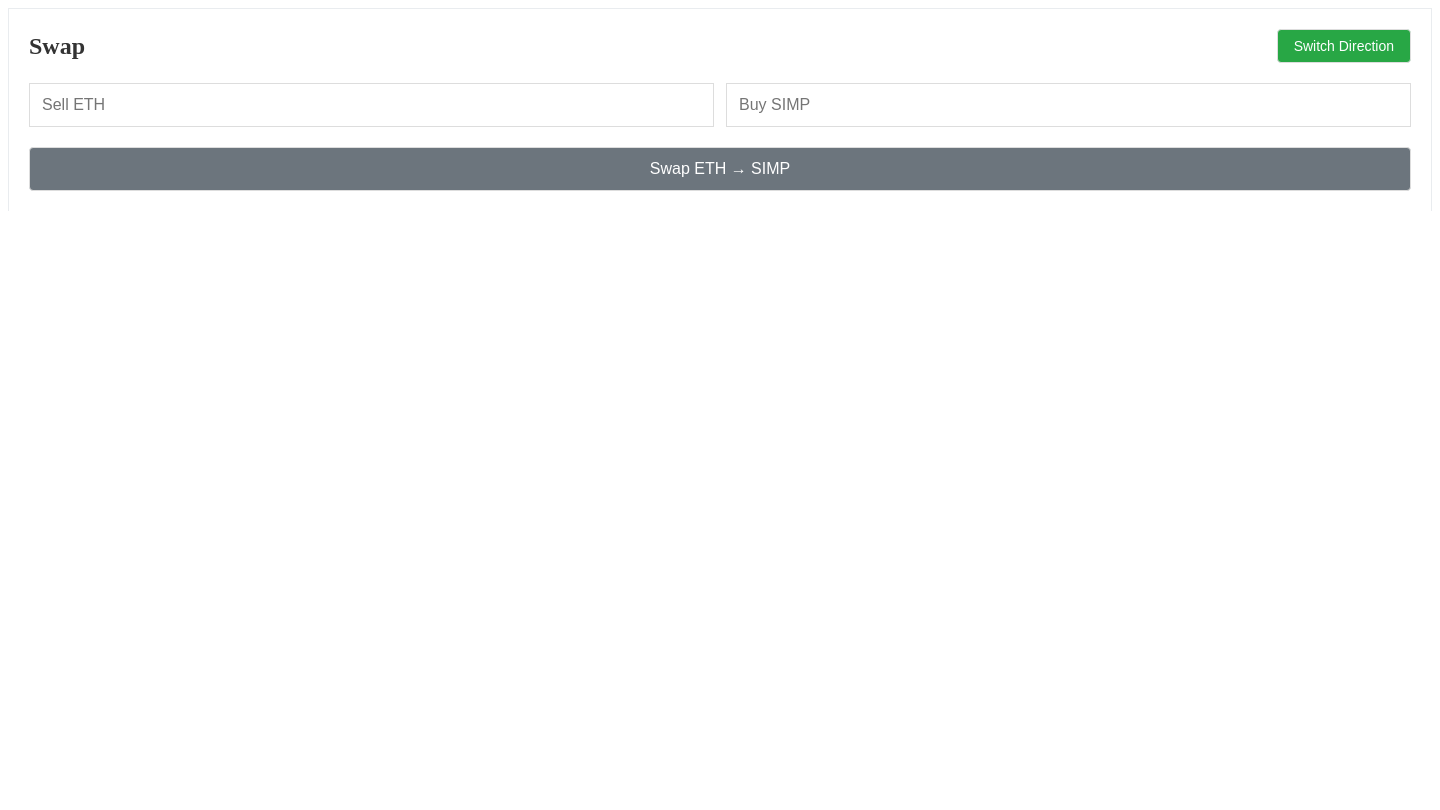
Test: Swap Component › Confirmation Dialog Integration › should not execute swap when confirmation is cancelled
The width and height of the screenshot is (1440, 810).
Click the button "Switch Direction". click: click(1344, 46)
box: x1=1277 y1=29 x2=1411 y2=63
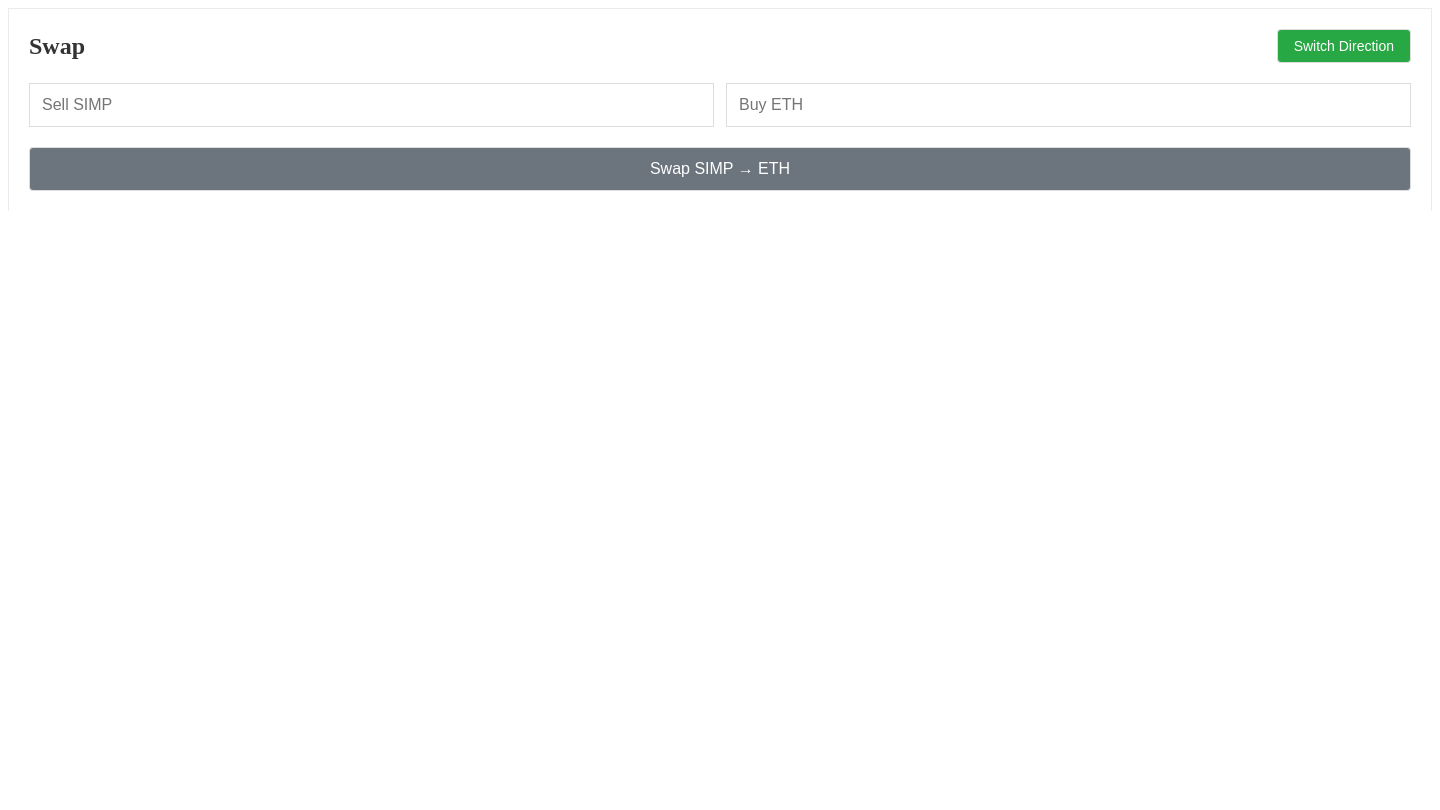
Type "1.0" into the number field with placeholder "Sell SIMP". click: (372, 105)
box: x1=29 y1=83 x2=714 y2=127
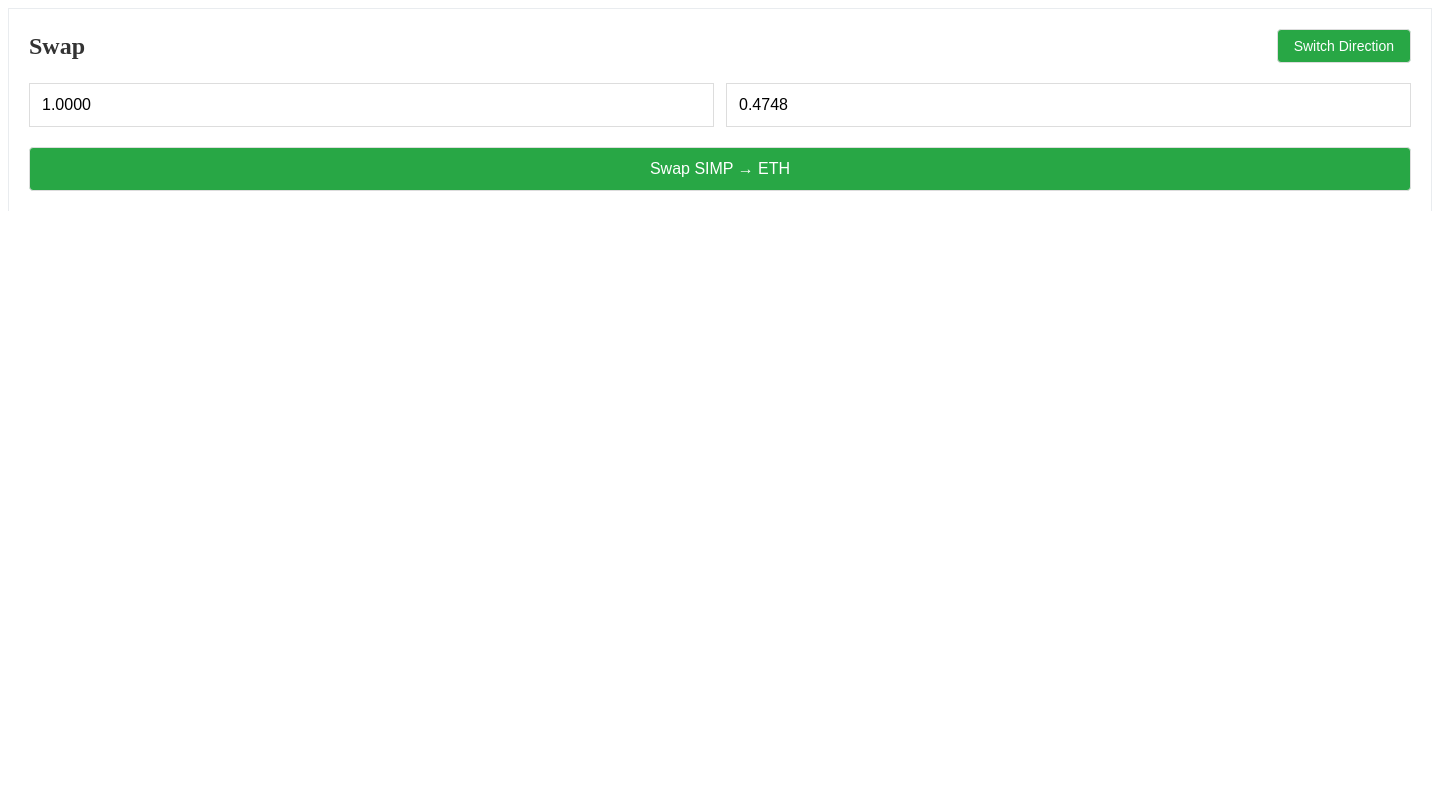
Click the button "Swap SIMP → ETH". click: click(720, 169)
box: x1=29 y1=147 x2=1411 y2=191
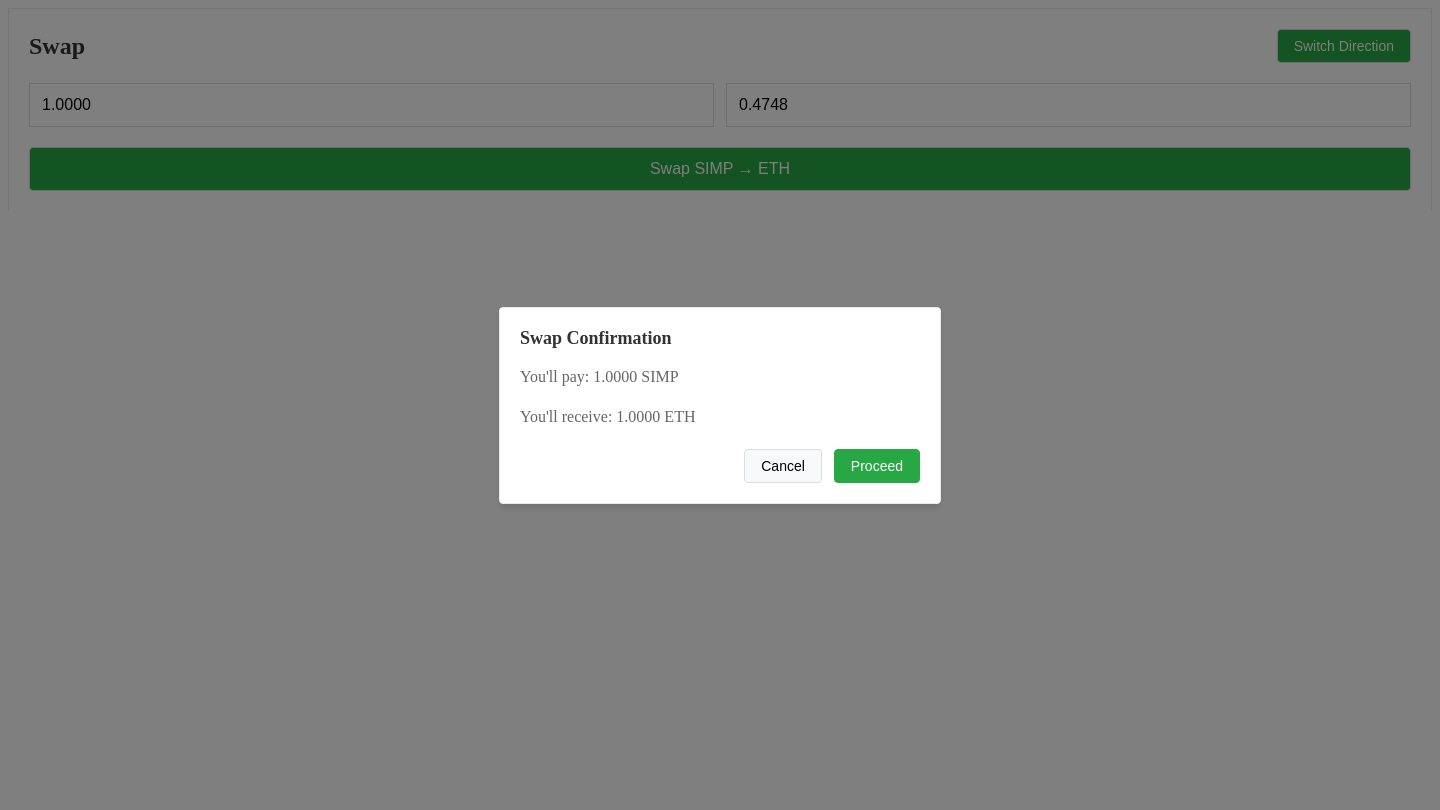
Now the heading "Swap Confirmation" is shown, box x1=520 y1=328 x2=672 y2=348
Click the button "Cancel". click: click(783, 466)
box: x1=744 y1=448 x2=822 y2=482
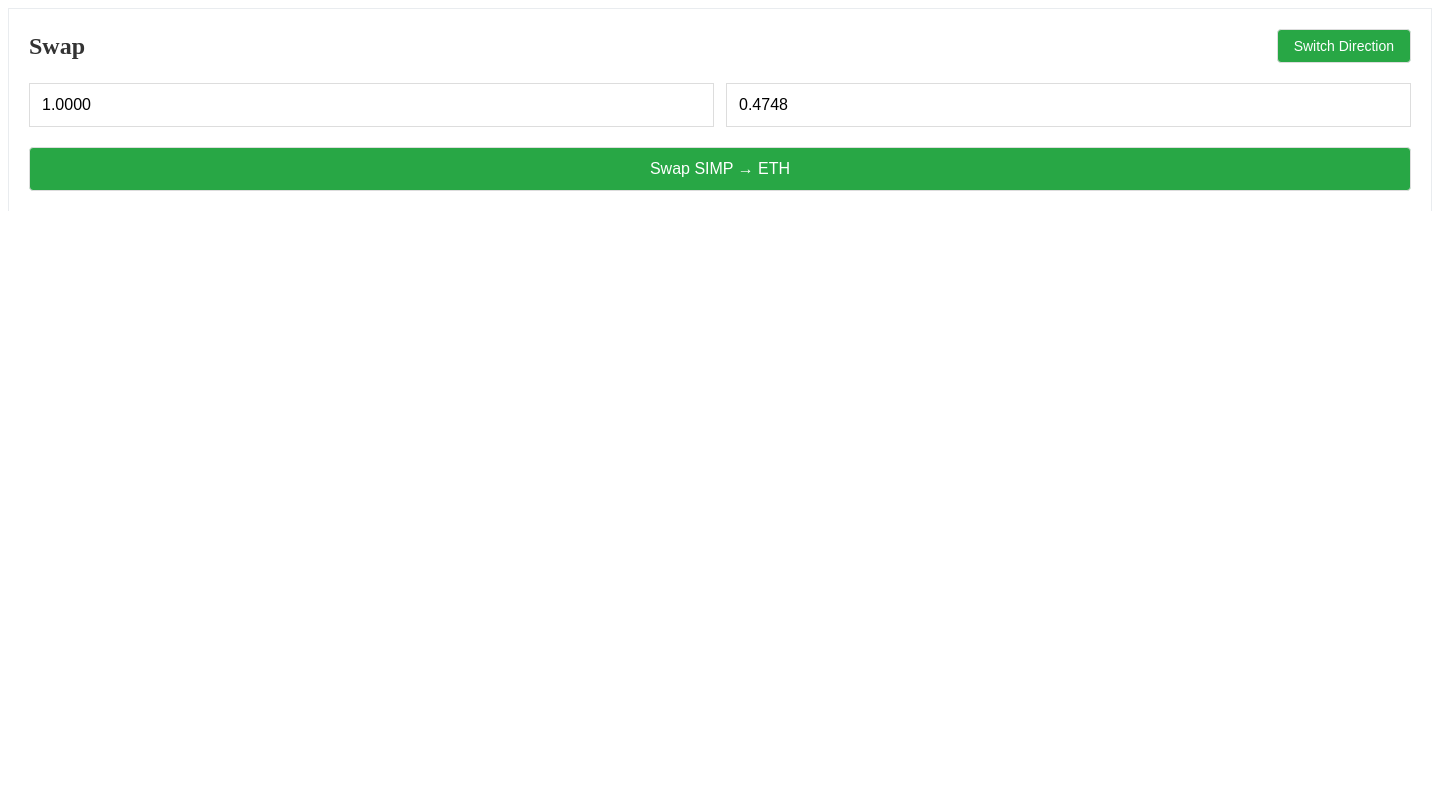
Now the heading "Swap Confirmation" is gone
